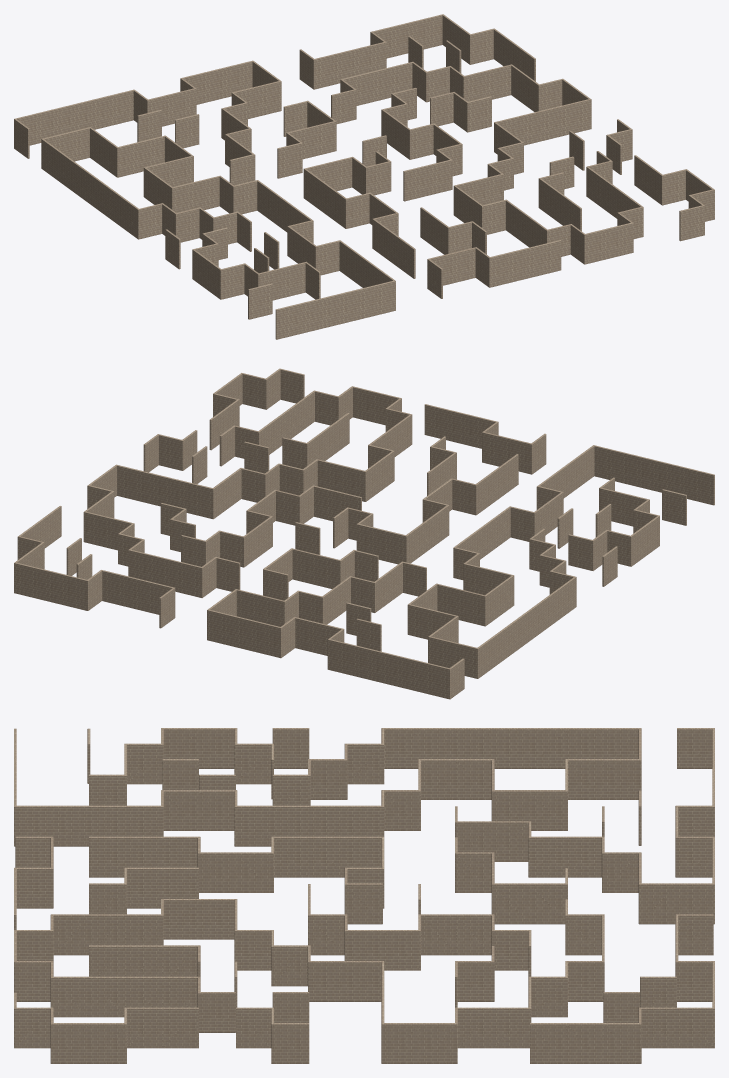
File: MazeRun.fbx
3 views of the same model, one above another, from view 1: azimuth 30°, elevation 25°; view 2: azimuth 150°, elevation 25°; view 3: azimuth 270°, elevation 25° (orthographic). The views are drawn at different scales.
Parts seen in each view (by area): view 1: Maze; view 2: Maze; view 3: Maze.
Boxes of the visible parts, box(x1,y1,x2,y2) form: Maze: box(14, 14, 714, 339); Maze: box(14, 368, 714, 699); Maze: box(14, 728, 714, 1063).
Bounding box in the file's own units: 3815 × 240 × 3815.
1 material, 1 textured.
